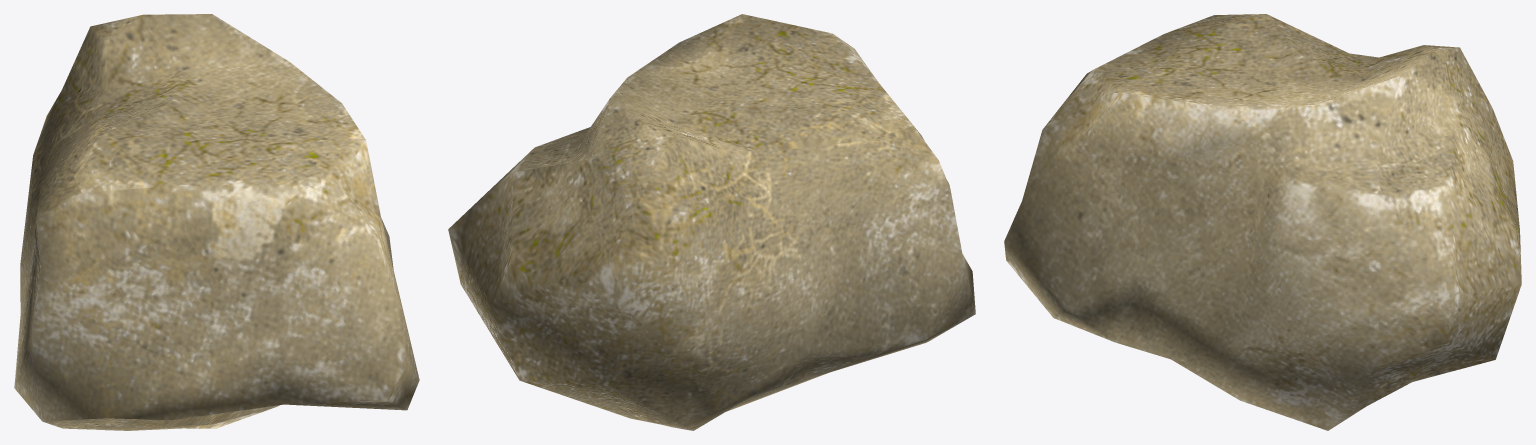
The model's file is piece1.glb.
The picture shows the model from 3 angles, left to right: view 1: azimuth 30°, elevation 25°; view 2: azimuth 150°, elevation 25°; view 3: azimuth 270°, elevation 25°; orthographic projection. The views are drawn at different scales.
Visible parts, largest first — view 1: Aset_nature_rock_S_wd3efb0_00_LOD4; view 2: Aset_nature_rock_S_wd3efb0_00_LOD4; view 3: Aset_nature_rock_S_wd3efb0_00_LOD4.
Boxes of the visible parts, bbox=[...] form: Aset_nature_rock_S_wd3efb0_00_LOD4: bbox=[14, 14, 419, 430]; Aset_nature_rock_S_wd3efb0_00_LOD4: bbox=[448, 14, 975, 430]; Aset_nature_rock_S_wd3efb0_00_LOD4: bbox=[1004, 14, 1521, 430].
Size of the model in its own units: 0.7671 by 0.6401 by 0.8559.
1 material, 1 textured.
